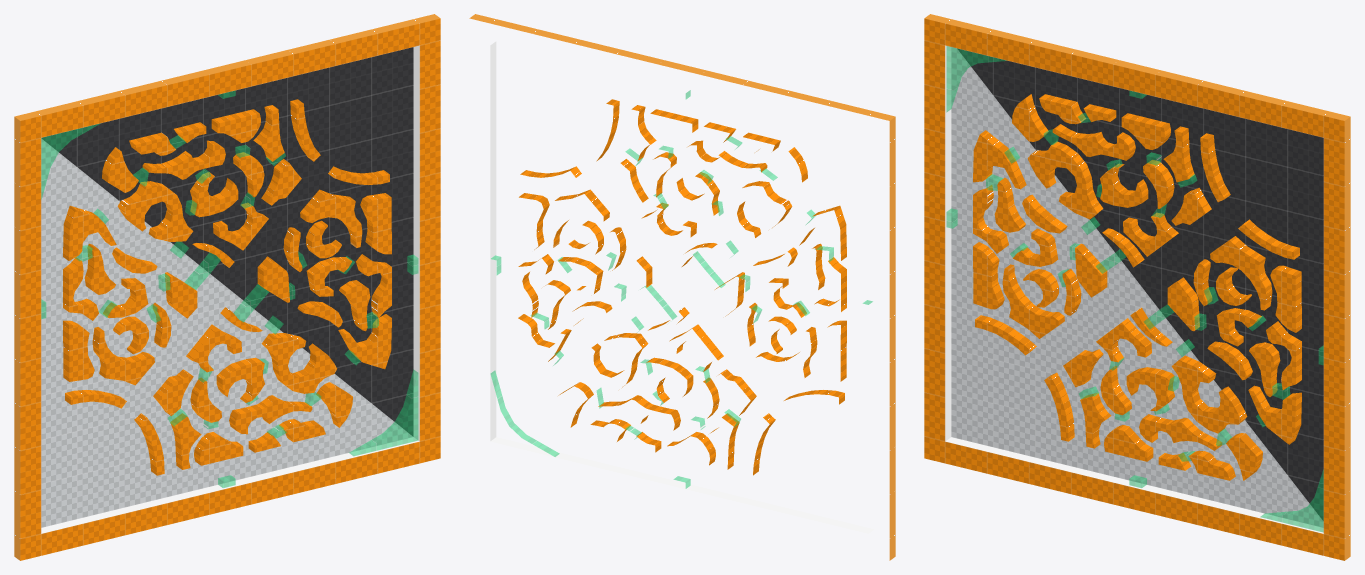
File: map.glb
3 renders of one model, left to right at view 1: azimuth 30°, elevation 25°; view 2: azimuth 150°, elevation 25°; view 3: azimuth 330°, elevation 25°, orthographic.
Parts seen in each view (by area): view 1: GroundMirrored, Ground, WallsExtruded, WallsMirrored, BrushesExtruded, BrushesMirrored; view 2: WallsExtruded, WallsMirrored, BrushesMirrored, BrushesExtruded; view 3: WallsMirrored, WallsExtruded, Ground, GroundMirrored, BrushesExtruded, BrushesMirrored.
Part boxes in pixels (x1=…): GroundMirrored: x1=41, y1=47, x2=413, y2=436; Ground: x1=41, y1=138, x2=412, y2=527; WallsExtruded: x1=14, y1=117, x2=440, y2=560; WallsMirrored: x1=14, y1=14, x2=440, y2=457; BrushesExtruded: x1=41, y1=138, x2=417, y2=487; BrushesMirrored: x1=42, y1=91, x2=418, y2=440; WallsExtruded: x1=490, y1=117, x2=895, y2=560; WallsMirrored: x1=469, y1=14, x2=895, y2=440; BrushesMirrored: x1=490, y1=90, x2=777, y2=425; BrushesExtruded: x1=509, y1=209, x2=872, y2=488; WallsMirrored: x1=924, y1=14, x2=1350, y2=560; WallsExtruded: x1=924, y1=19, x2=1344, y2=560; Ground: x1=951, y1=47, x2=1323, y2=527; GroundMirrored: x1=957, y1=48, x2=1323, y2=520; BrushesExtruded: x1=946, y1=46, x2=1323, y2=532; BrushesMirrored: x1=948, y1=46, x2=1323, y2=530.
Bounding box in the file's own units: 2000 × 2000 × 50.
Materials: 4 (4 with a texture image).
